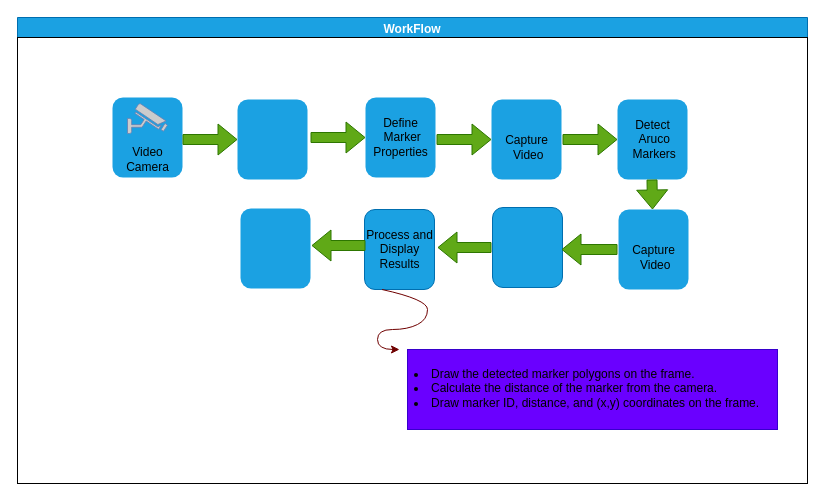
Image size: 825x501. Some labels were removed from this diagram. Each missing label, with the centre of its shape:
"Estimate Marker Pose" belongs at (x=527, y=247).
"Load Calibration Data" belongs at (x=272, y=139).
"Show and Close" belongs at (x=275, y=248).
